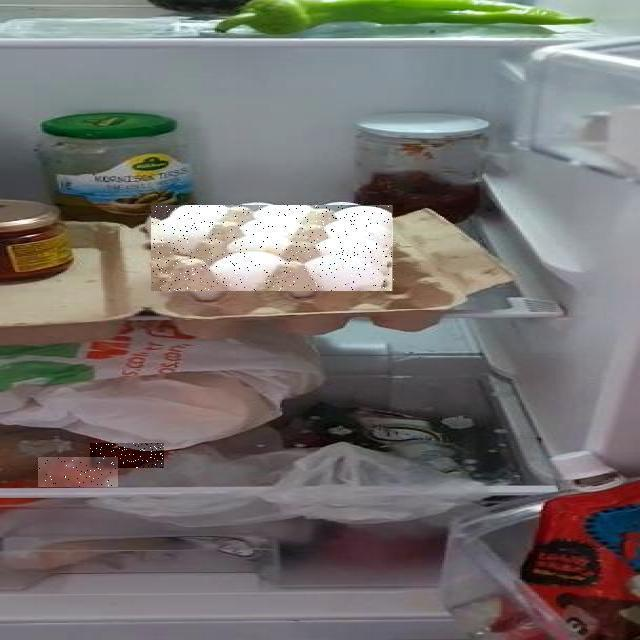Eggs: (152, 205, 396, 291)
Tomato Paste: (38, 457, 118, 487), (90, 443, 164, 468)
